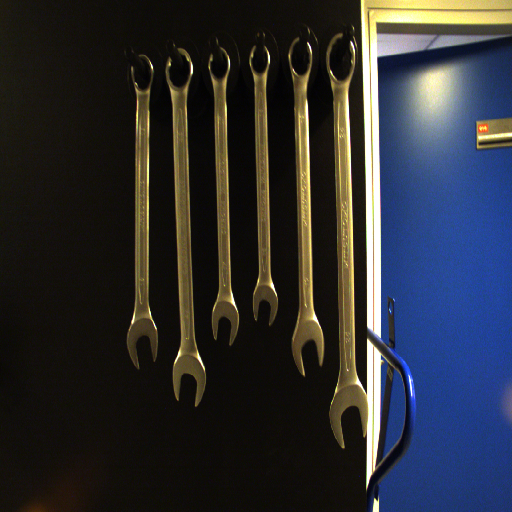bottom: (327, 386, 370, 451), (290, 318, 329, 377), (169, 351, 209, 408), (125, 317, 162, 370), (208, 300, 242, 346), (248, 284, 280, 326)
top: (324, 32, 357, 83), (164, 46, 195, 91), (285, 37, 316, 79), (127, 53, 157, 94), (205, 45, 233, 82), (246, 43, 274, 76)
